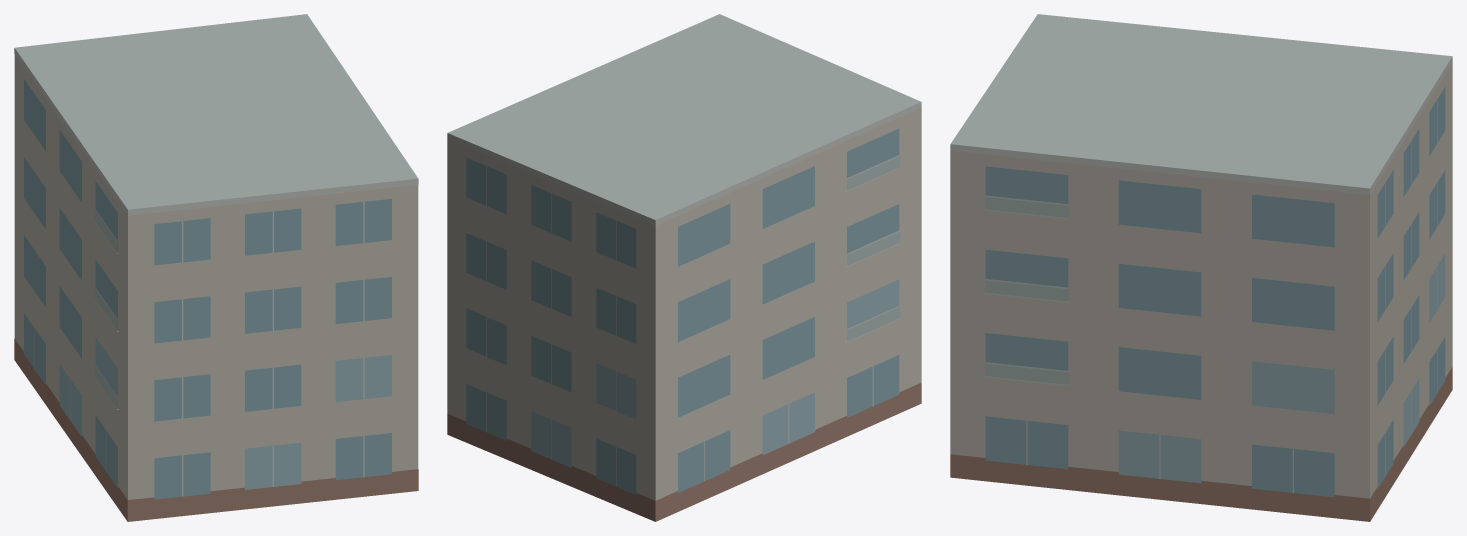
The model's file is survey-upis-32600976.glb.
The picture shows the model from 3 angles, left to right: view 1: azimuth 30°, elevation 25°; view 2: azimuth 150°, elevation 25°; view 3: azimuth 270°, elevation 25°; orthographic projection. The views are drawn at different scales.
Visible parts, largest first — view 1: survey-upis-32600976.tmp; view 2: survey-upis-32600976.tmp; view 3: survey-upis-32600976.tmp.
Part boxes in pixels (x1,y1,x2,y2): survey-upis-32600976.tmp: (14,14,418,521); survey-upis-32600976.tmp: (447,14,921,521); survey-upis-32600976.tmp: (950,14,1452,521).
Size of the model in its own units: 14.16 by 12.6 by 17.21.
